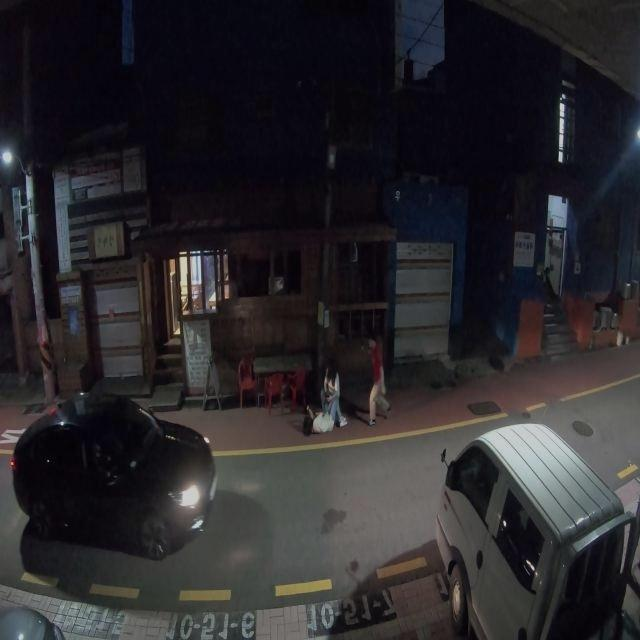fight: (300, 359, 348, 433), (360, 334, 390, 426)
